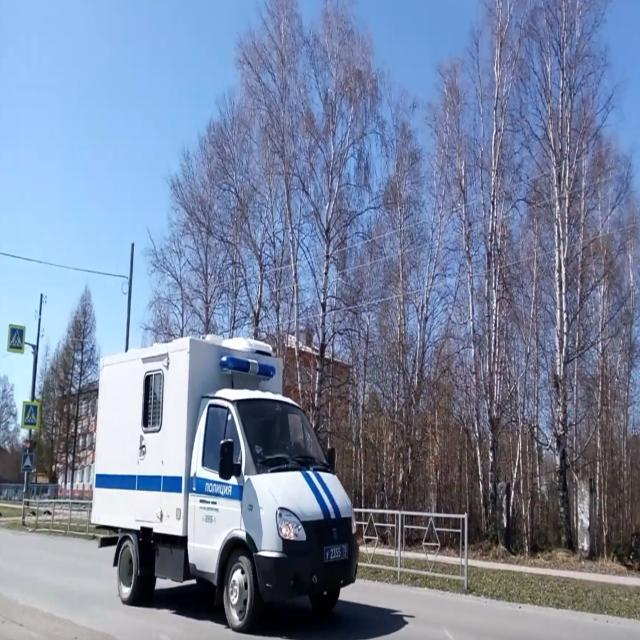police car: (93, 336, 360, 634)
